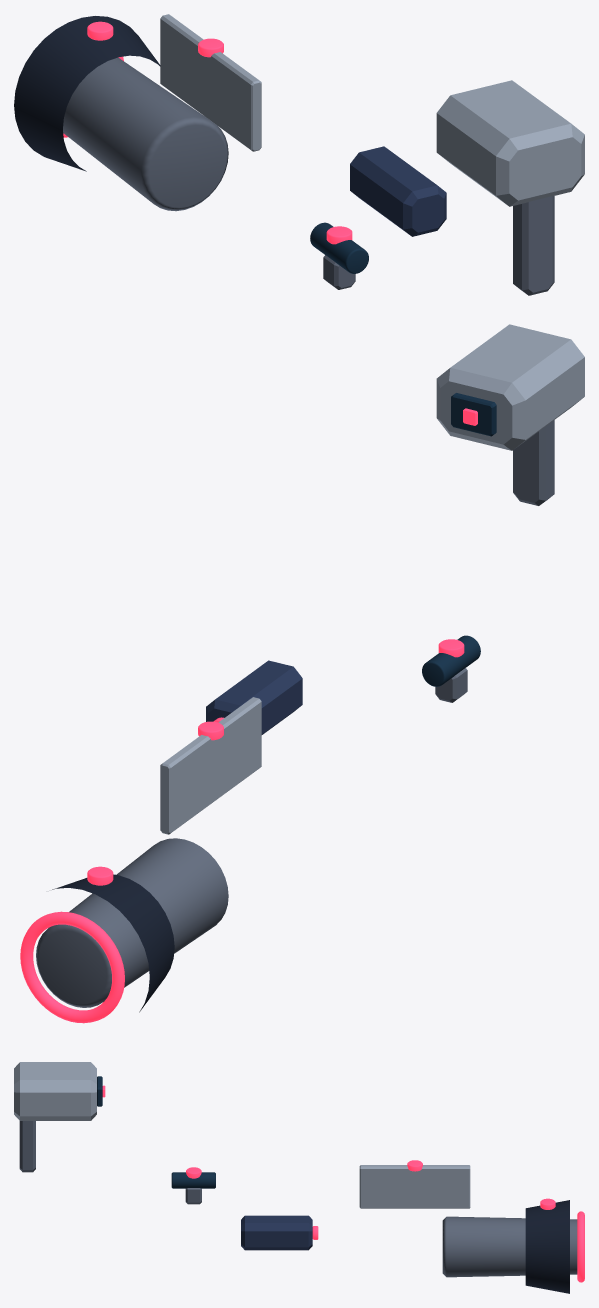
The model's file is tower_filament_optics_s7.glb.
The picture shows the model from 3 angles, top to bottom: view 1: azimuth 30°, elevation 25°; view 2: azimuth 150°, elevation 25°; view 3: azimuth 270°, elevation 25°; orthographic projection. The views are drawn at different scales.
Visible parts, largest first — view 1: filament_tube_ext, filament_optics_head, filament_lens_hood, filament_stab_fin, filament_rangefinder, filament_optics_mast, filament_sight_glass, filament_sight_mount, filament_up_optics_l3_stud, filament_up_optics_l6_stud, filament_up_optics_l2_stud; view 2: filament_tube_ext, filament_optics_head, filament_stab_fin, filament_lens_hood, filament_tube_ext_ring, filament_rangefinder, filament_optics_mast, filament_sight_glass, filament_optics_lens; view 3: filament_tube_ext, filament_stab_fin, filament_optics_head, filament_lens_hood, filament_rangefinder, filament_optics_mast, filament_sight_glass, filament_tube_ext_ring.
Boxes of the visible parts, box(x1,y1,x2,y2) form: filament_tube_ext: box(63, 57, 228, 211); filament_optics_head: box(436, 80, 584, 206); filament_lens_hood: box(14, 16, 160, 171); filament_stab_fin: box(160, 14, 261, 151); filament_rangefinder: box(350, 146, 446, 236); filament_optics_mast: box(513, 196, 554, 295); filament_sight_glass: box(310, 222, 368, 273); filament_sight_mount: box(323, 255, 355, 289); filament_up_optics_l3_stud: box(87, 21, 113, 40); filament_up_optics_l6_stud: box(198, 38, 223, 57); filament_up_optics_l2_stud: box(326, 226, 352, 244); filament_tube_ext: box(36, 838, 228, 1007); filament_optics_head: box(436, 324, 584, 450); filament_stab_fin: box(160, 697, 261, 834); filament_lens_hood: box(52, 874, 174, 1012); filament_tube_ext_ring: box(20, 911, 124, 1023); filament_rangefinder: box(206, 660, 302, 734); filament_optics_mast: box(513, 420, 554, 505); filament_sight_glass: box(422, 635, 480, 686); filament_optics_lens: box(451, 393, 496, 436); filament_tube_ext: box(442, 1216, 577, 1277); filament_stab_fin: box(359, 1165, 470, 1208); filament_optics_head: box(14, 1062, 96, 1120); filament_lens_hood: box(525, 1200, 569, 1293); filament_rangefinder: box(241, 1215, 312, 1250); filament_optics_mast: box(19, 1121, 35, 1172); filament_sight_glass: box(171, 1172, 215, 1188); filament_tube_ext_ring: box(577, 1211, 584, 1282).
Bounding box in the file's own units: 0.4044 × 0.8716 × 2.06.
